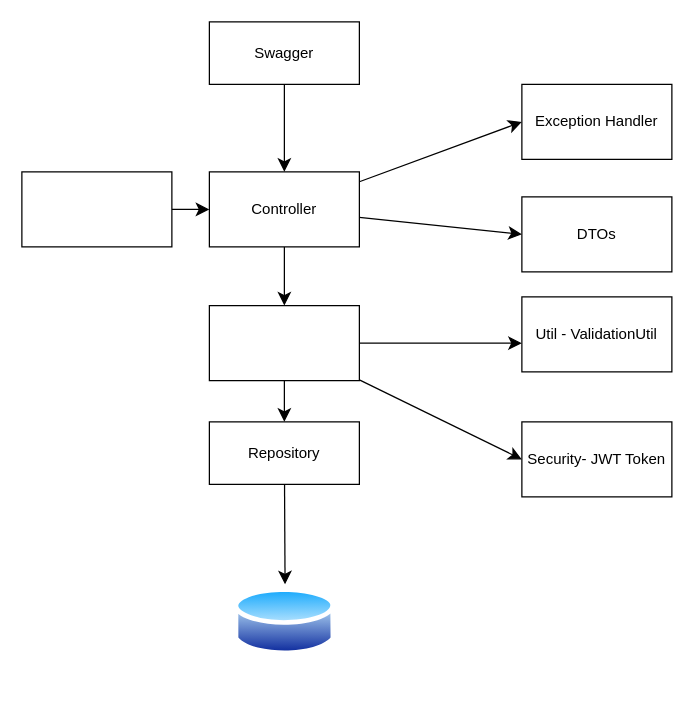
Some shapes in this 694 by 711 pixel diagram are drawn without their labels. Here are the shapes that lost their labels. From the top down, the centre of each, then its label:
point 96,209: Cliente (Postman)
point 283,342: Service
point 284,621: H2 Database (In Memory)
